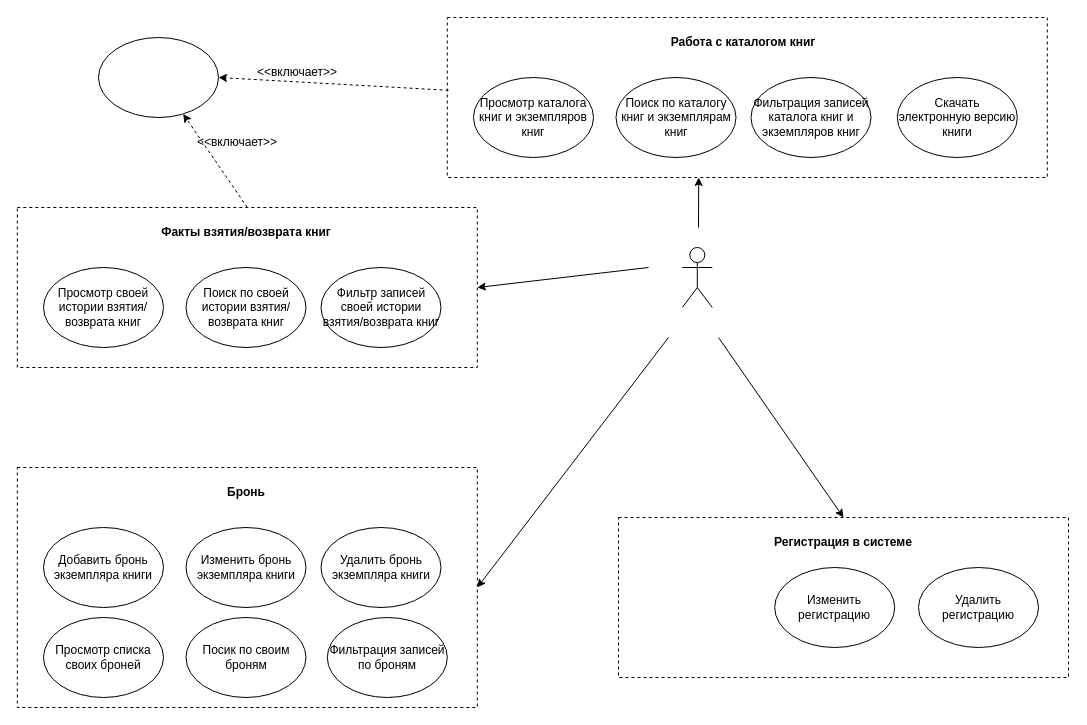
The diagram is 1087 pixels wide and 725 high, and some of its shapes have lost their labels. Here are the shapes that lost their labels. From the top down, the centre of each, then its label:
the point at 158,77: Упрощённая выгрузка списков в Excel для анализа
the point at 696,277: Читатель с подтверждённой регистрацией
